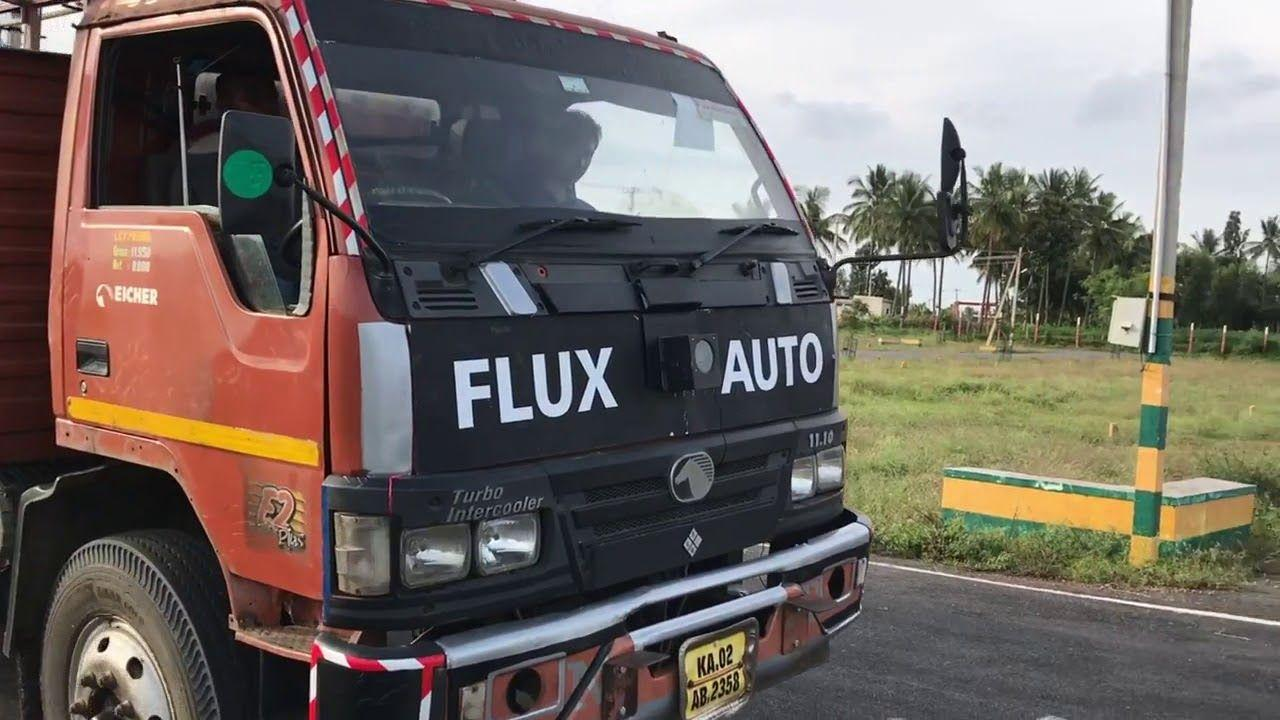truck: (59, 12, 870, 704)
